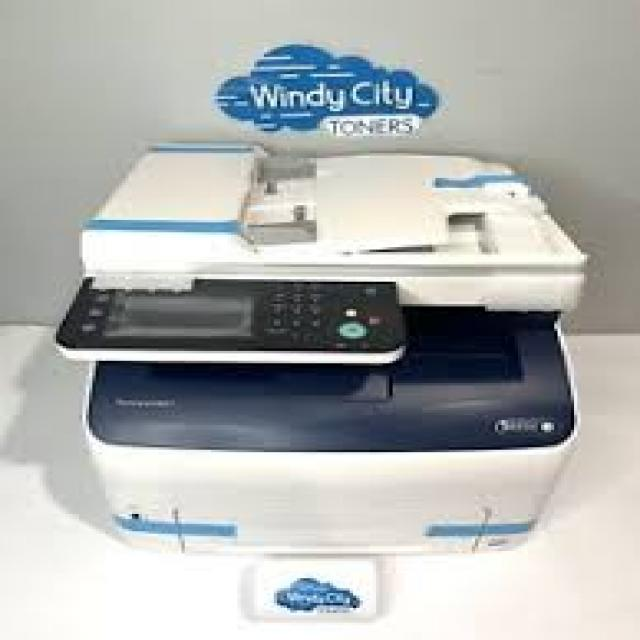printer: (50, 135, 599, 628)
